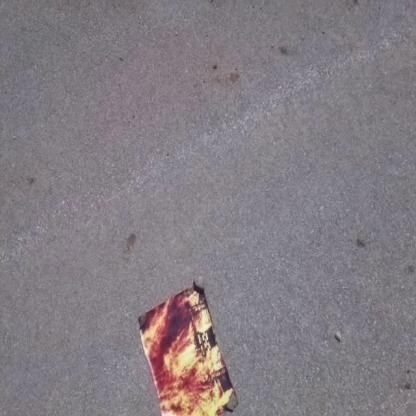fire-poster: (136, 277, 238, 415)
